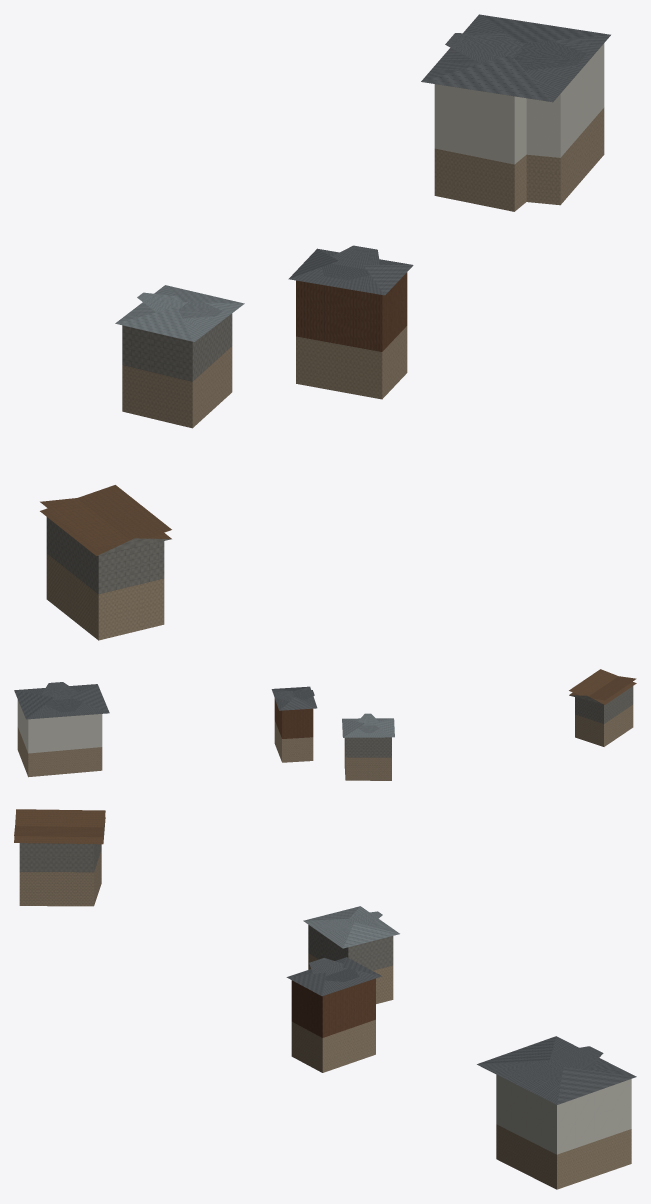
The model's file is bld_c-2_19_537.gltf.
The picture shows the model from 3 angles, top to bottom: view 1: azimuth 30°, elevation 25°; view 2: azimuth 150°, elevation 25°; view 3: azimuth 270°, elevation 25°; orthographic projection. The views are drawn at different scales.
Visible parts, largest first — view 1: bld_c-2_19_537; view 2: bld_c-2_19_537; view 3: bld_c-2_19_537.
Boxes of the visible parts, bbox=[...] form: bld_c-2_19_537: bbox=[40, 14, 610, 640]; bld_c-2_19_537: bbox=[14, 669, 636, 780]; bld_c-2_19_537: bbox=[14, 809, 636, 1189].
Size of the model in its own units: 99.25 by 15.4 by 82.19.
Materials: 8 (8 with a texture image).
